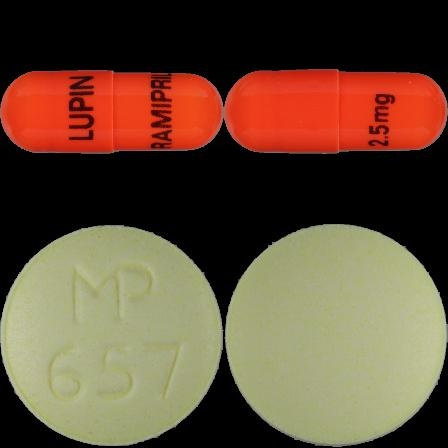43063-502: (0, 0, 224, 224)
